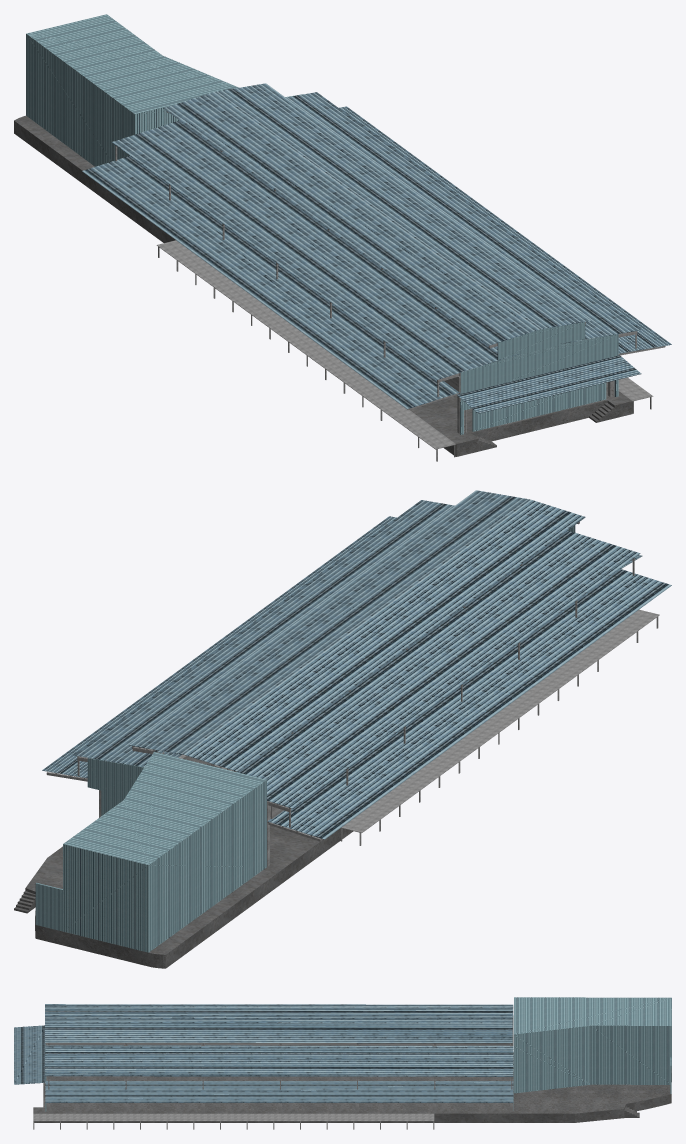
Rendered from changfang01.gltf.
3 views of the same model, one above another, from view 1: azimuth 30°, elevation 25°; view 2: azimuth 150°, elevation 25°; view 3: azimuth 270°, elevation 25° (orthographic). The views are drawn at different scales.
Parts seen in each view (by area): view 1: changfang01_35, changfang01_51, changfang01_7, changfang01_33, changfang01_53, changfang01_62, changfang01_73, changfang01_64, changfang01_91, changfang01_179, changfang01_16, changfang01_93; view 2: changfang01_51, changfang01_35, changfang01_7, changfang01_33, changfang01_53, changfang01_62, changfang01_73, changfang01_64, changfang01_16, changfang01_52, changfang01_129; view 3: changfang01_62, changfang01_51, changfang01_73, changfang01_16, changfang01_53, changfang01_7, changfang01_155, changfang01_179, changfang01_35, changfang01_111.
Boxes of the visible parts, bbox=[...] form: changfang01_35: bbox=[111, 120, 518, 379]; changfang01_51: bbox=[26, 14, 238, 166]; changfang01_7: bbox=[163, 92, 539, 345]; changfang01_33: bbox=[82, 156, 460, 409]; changfang01_53: bbox=[215, 83, 590, 329]; changfang01_62: bbox=[285, 92, 642, 343]; changfang01_73: bbox=[14, 115, 632, 456]; changfang01_64: bbox=[156, 240, 455, 449]; changfang01_91: bbox=[460, 322, 618, 402]; changfang01_179: bbox=[456, 355, 641, 413]; changfang01_16: bbox=[339, 106, 671, 353]; changfang01_93: bbox=[460, 379, 618, 434]; changfang01_51: bbox=[63, 752, 266, 952]; changfang01_35: bbox=[236, 530, 640, 808]; changfang01_7: bbox=[183, 499, 585, 771]; changfang01_33: bbox=[267, 569, 671, 839]; changfang01_53: bbox=[129, 490, 530, 754]; changfang01_62: bbox=[74, 500, 454, 766]; changfang01_73: bbox=[25, 756, 353, 968]; changfang01_64: bbox=[341, 609, 659, 832]; changfang01_16: bbox=[42, 516, 396, 778]; changfang01_52: bbox=[87, 758, 143, 815]; changfang01_129: bbox=[35, 882, 62, 931]; changfang01_62: bbox=[45, 1043, 513, 1076]; changfang01_51: bbox=[513, 997, 671, 1093]; changfang01_73: bbox=[33, 1052, 671, 1122]; changfang01_16: bbox=[45, 1081, 513, 1102]; changfang01_53: bbox=[45, 1022, 512, 1043]; changfang01_7: bbox=[45, 1006, 512, 1022]; changfang01_155: bbox=[33, 1113, 434, 1121]; changfang01_179: bbox=[14, 1025, 45, 1084]; changfang01_35: bbox=[45, 1004, 513, 1022]; changfang01_111: bbox=[45, 1043, 509, 1045].
Bounding box in the file's own units: 257 × 92.04 × 768.
Materials: 4 (4 with a texture image).
